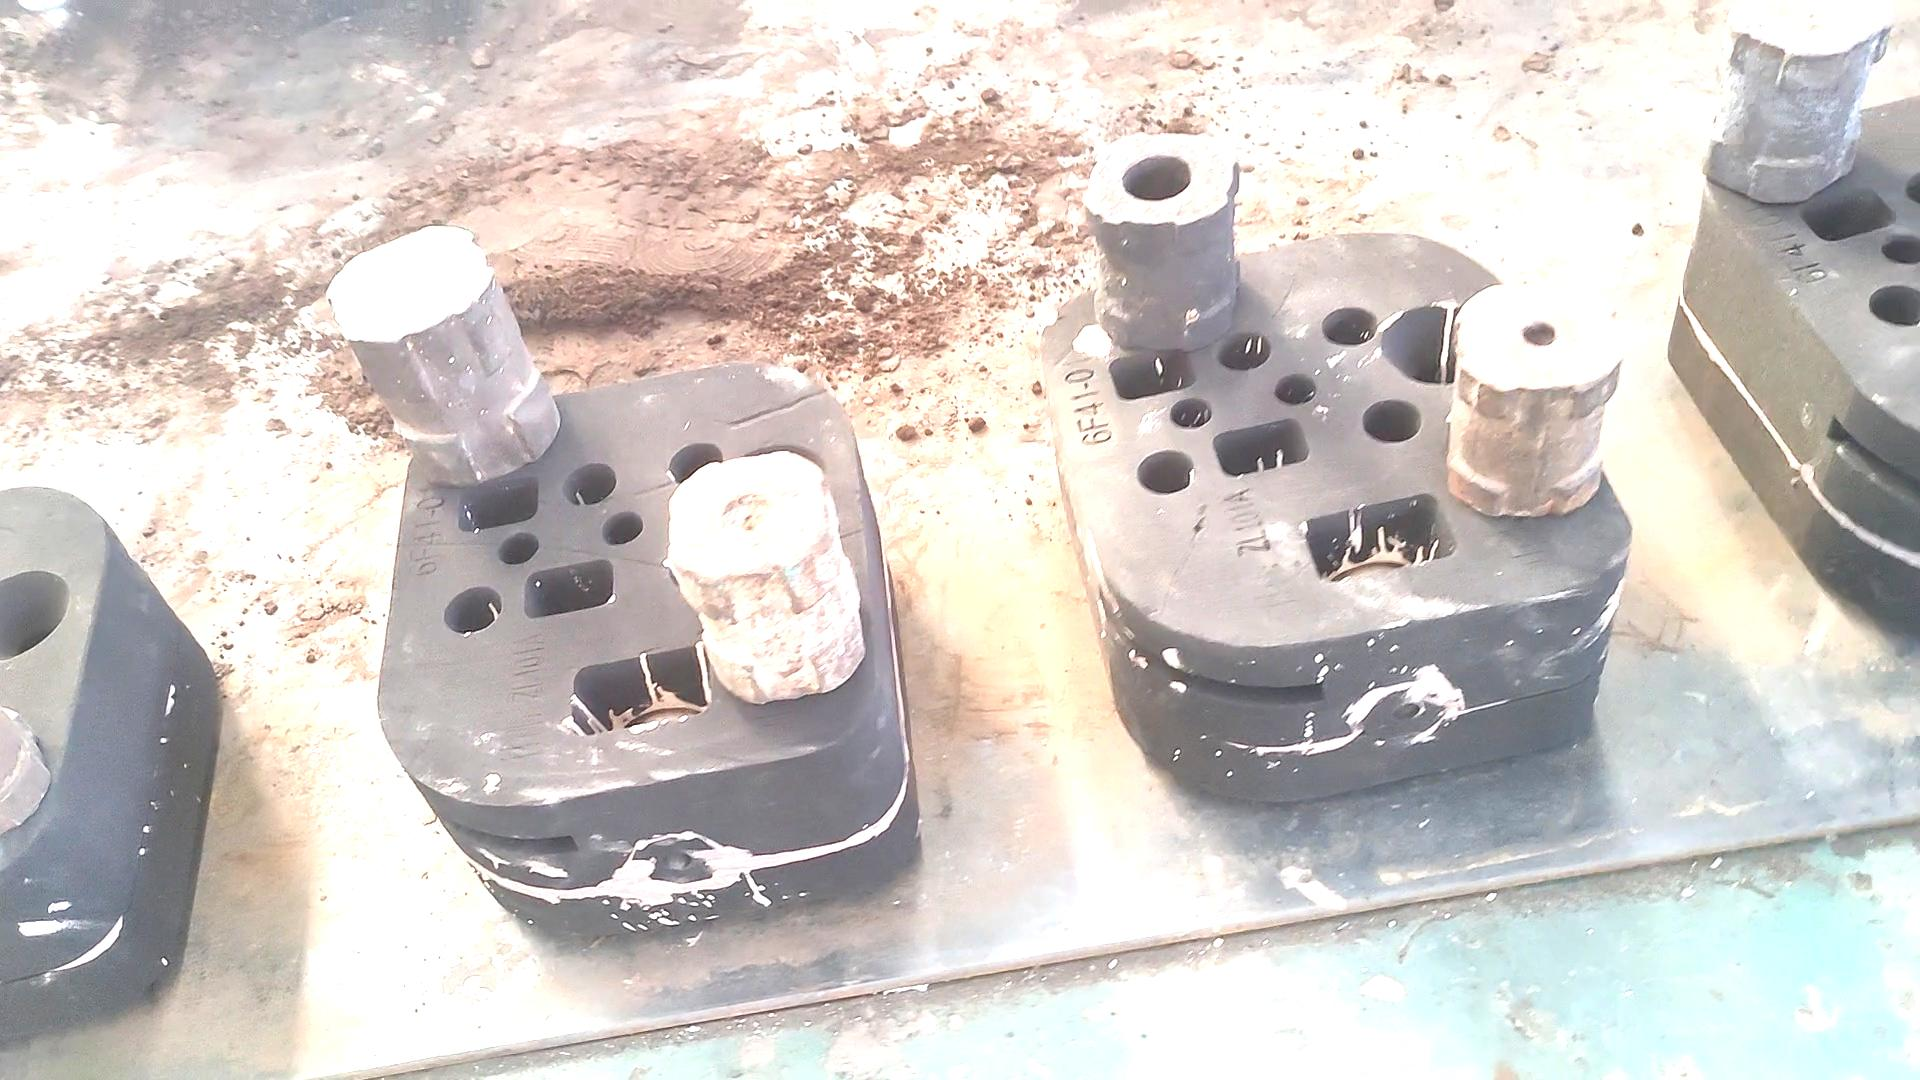pouring hole: (1378, 305, 1491, 386), (731, 443, 828, 530), (1, 567, 73, 663)
